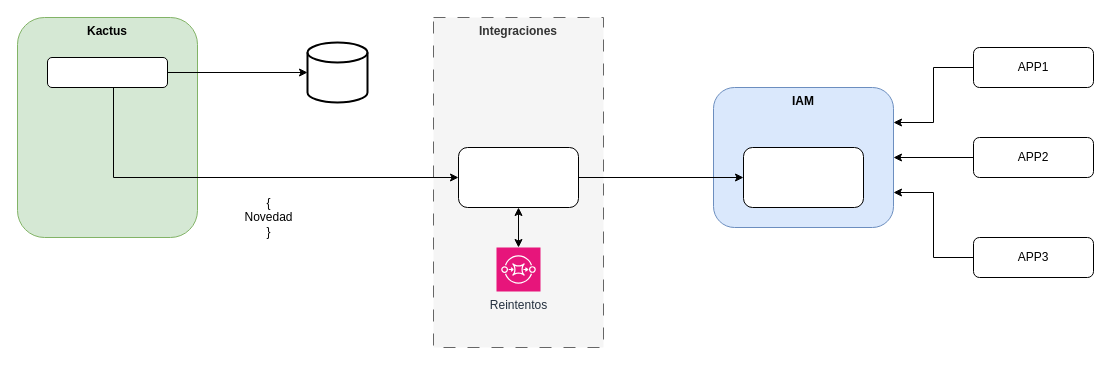
The diagram is 1111 pixels wide and 365 high, and some of its shapes have lost their labels. Each missing label, with the centre of its shape:
API IDM: (x=803, y=177)
API Republicada: (x=518, y=177)
Novedades: (x=107, y=72)
